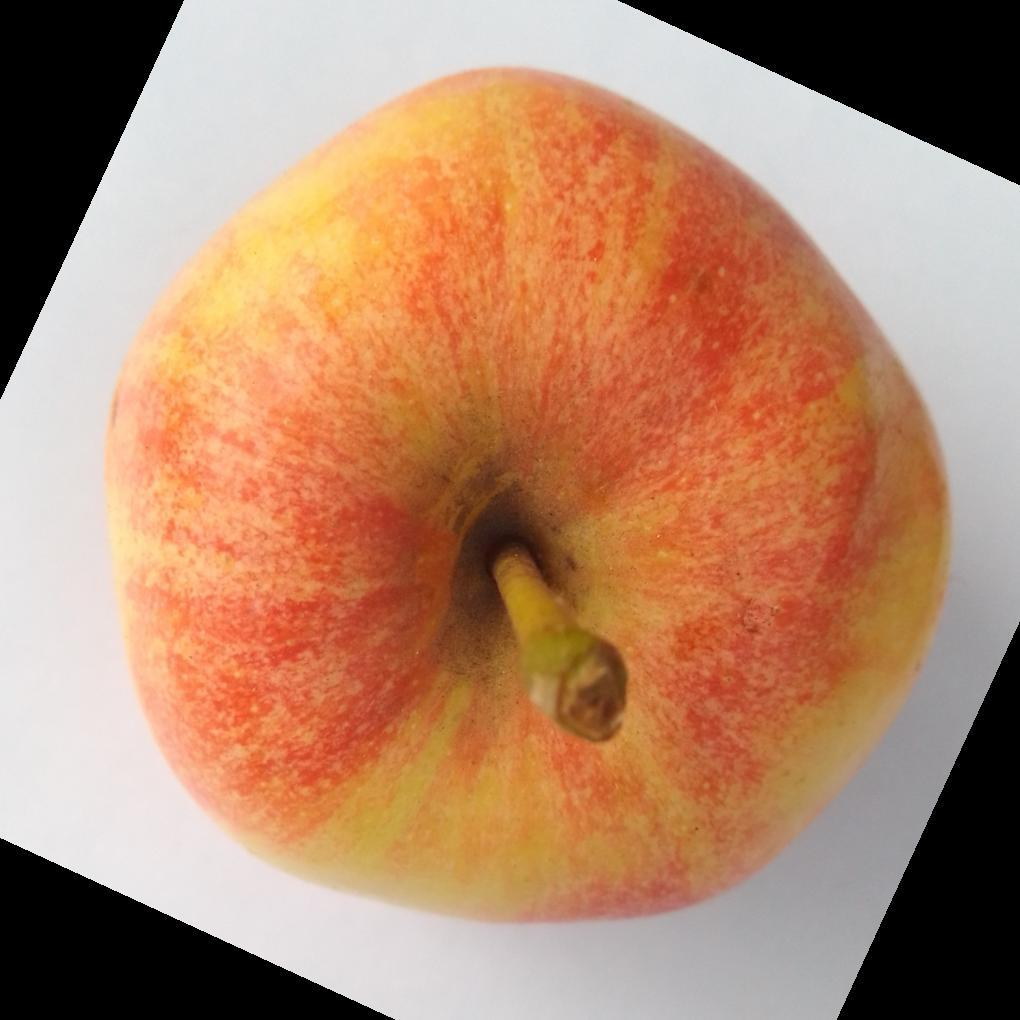FreshGuava: (98, 68, 953, 930)
